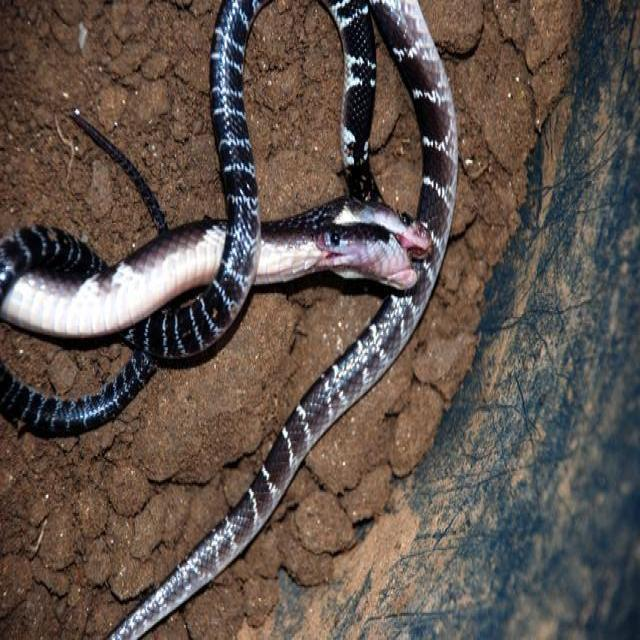Snake: (0, 1, 479, 640)
